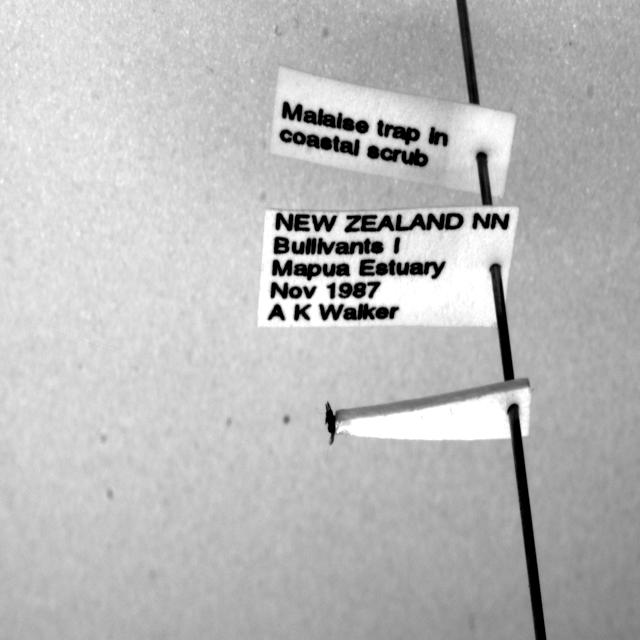typed_label: (270, 66, 516, 197), (258, 206, 519, 328)
